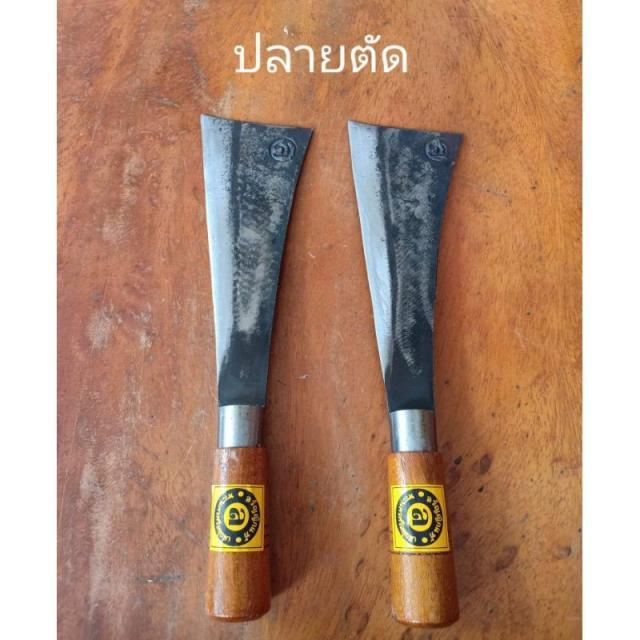eto: (342, 114, 473, 632), (196, 110, 322, 628)
